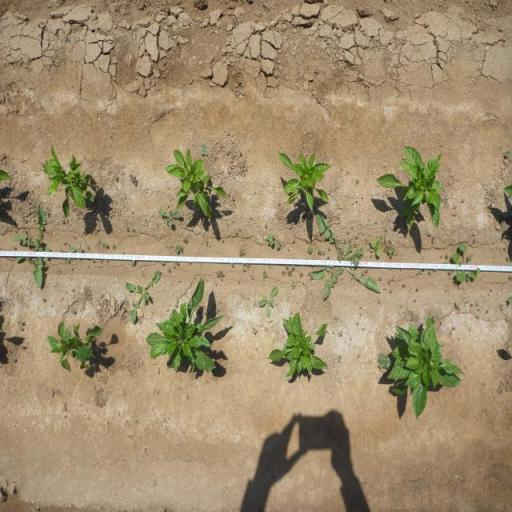plant: (142, 277, 225, 377), (387, 313, 464, 420), (374, 146, 444, 232), (164, 146, 230, 219), (269, 311, 330, 382), (44, 143, 100, 219), (277, 148, 332, 212), (44, 317, 103, 375)
weed: (310, 210, 383, 304), (11, 206, 53, 290), (121, 269, 161, 325), (256, 285, 279, 318), (452, 242, 466, 284), (158, 207, 182, 227), (369, 236, 383, 259), (466, 268, 482, 284), (69, 244, 83, 262), (377, 352, 391, 370), (265, 232, 275, 247), (128, 172, 138, 186), (386, 246, 396, 258), (216, 268, 225, 281), (200, 142, 208, 156), (174, 243, 184, 254), (454, 300, 461, 312), (316, 248, 326, 256), (502, 150, 512, 158), (276, 240, 282, 252), (251, 326, 258, 336), (18, 320, 24, 331), (238, 248, 245, 257), (242, 263, 252, 269), (358, 246, 364, 256), (467, 254, 474, 262), (507, 295, 512, 306), (262, 270, 268, 279), (291, 281, 297, 290), (100, 242, 108, 248), (290, 264, 296, 272), (307, 246, 313, 254), (416, 270, 424, 276), (337, 354, 342, 363), (129, 260, 136, 266), (337, 330, 343, 337), (286, 270, 292, 276), (443, 254, 449, 260), (64, 258, 71, 263), (159, 262, 165, 266), (281, 270, 285, 276), (364, 268, 368, 273), (428, 270, 432, 275)
